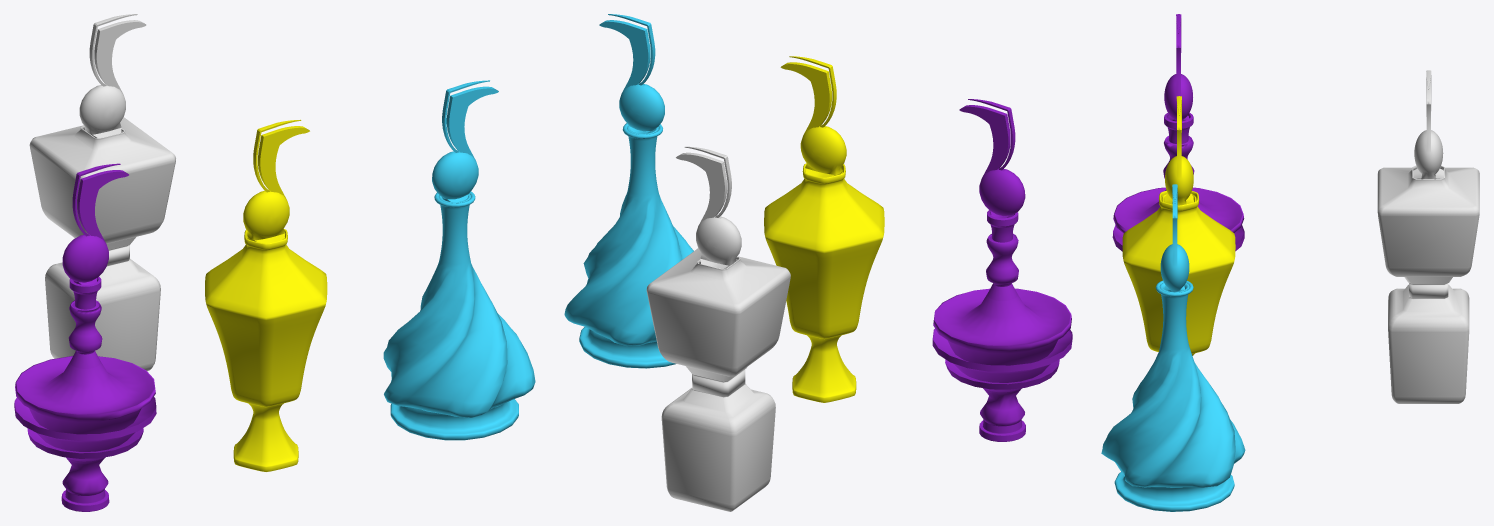
File: Potion_Solo_Entiere.fbx
3 views of the same model, side by side, from view 1: azimuth 30°, elevation 25°; view 2: azimuth 150°, elevation 25°; view 3: azimuth 270°, elevation 25° (orthographic). The views are drawn at different scales.
Parts seen in each view (by area): view 1: Potion_Legato_Corps, Potion_Solo_Corps, Potion_Staccato_Corps, Potions_Pizzicato_Corps, Potion_Staccato_Bouchon, Potion_Solo_Corps_Bouchon, Potion_Legato_Bouchon, Potions_Pizzicato_Bouchon; view 2: Potion_Solo_Corps, Potion_Staccato_Corps, Potions_Pizzicato_Corps, Potion_Legato_Corps, Potion_Staccato_Bouchon, Potion_Solo_Corps_Bouchon, Potion_Legato_Bouchon, Potions_Pizzicato_Bouchon; view 3: Potion_Solo_Corps, Potion_Legato_Corps, Potion_Staccato_Corps, Potions_Pizzicato_Corps, Potion_Solo_Corps_Bouchon, Potion_Legato_Bouchon, Potion_Staccato_Bouchon, Potions_Pizzicato_Bouchon.
Part boxes in pixels (x1,y1,x2,y2): Potion_Legato_Corps: (383, 191, 535, 440); Potion_Solo_Corps: (29, 117, 175, 371); Potion_Staccato_Corps: (205, 229, 327, 471); Potions_Pizzicato_Corps: (14, 276, 156, 511); Potion_Staccato_Bouchon: (243, 119, 309, 243); Potion_Solo_Corps_Bouchon: (79, 14, 146, 138); Potion_Legato_Bouchon: (432, 80, 498, 202); Potions_Pizzicato_Bouchon: (62, 163, 128, 284); Potion_Solo_Corps: (646, 248, 790, 511); Potion_Staccato_Corps: (764, 163, 884, 402); Potions_Pizzicato_Corps: (932, 210, 1072, 441); Potion_Legato_Corps: (564, 123, 693, 368); Potion_Staccato_Bouchon: (780, 56, 846, 177); Potion_Solo_Corps_Bouchon: (676, 146, 741, 268); Potion_Legato_Bouchon: (599, 14, 664, 133); Potions_Pizzicato_Bouchon: (959, 99, 1025, 218); Potion_Solo_Corps: (1377, 165, 1479, 403); Potion_Legato_Corps: (1101, 280, 1245, 511); Potion_Staccato_Corps: (1122, 190, 1235, 355); Potions_Pizzicato_Corps: (1112, 112, 1244, 251); Potion_Solo_Corps_Bouchon: (1413, 70, 1443, 179); Potion_Legato_Bouchon: (1160, 184, 1189, 291); Potion_Staccato_Bouchon: (1164, 96, 1193, 205); Potions_Pizzicato_Bouchon: (1164, 14, 1192, 121).
Size of the model in its own units: 493 by 330 by 354.
